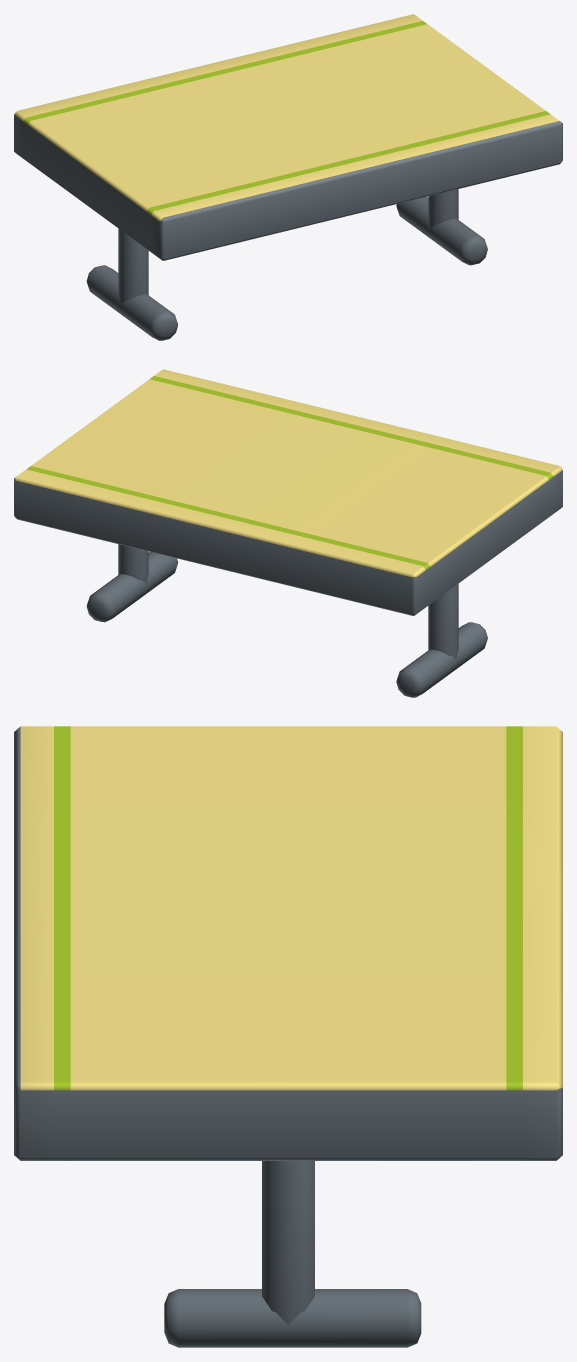
File: Table_Short.fbx
3 views of the same model, one above another, from view 1: azimuth 30°, elevation 25°; view 2: azimuth 150°, elevation 25°; view 3: azimuth 270°, elevation 25° (orthographic). The views are drawn at different scales.
Visible parts, largest first — view 1: Table_Short; view 2: Table_Short; view 3: Table_Short.
Part boxes in pixels (box(x1,y1,x2,y2)): Table_Short: box(14, 14, 562, 340); Table_Short: box(14, 369, 562, 697); Table_Short: box(14, 726, 562, 1347).
Size of the model in its own units: 187 by 72.69 by 120.
